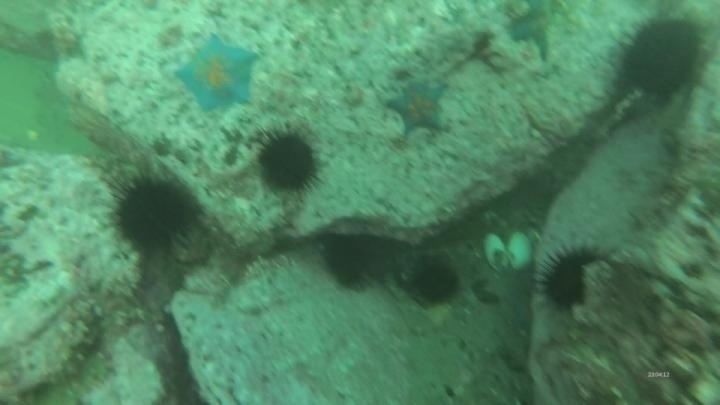echinus: (109, 171, 203, 255), (616, 16, 707, 102), (253, 126, 324, 195), (537, 245, 602, 313), (317, 234, 376, 291), (409, 258, 462, 307)
starfish: (173, 34, 260, 114), (384, 79, 451, 138), (506, 2, 568, 63)
